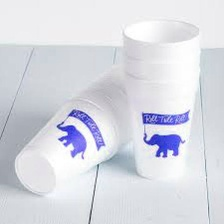paper_cup: (10, 59, 150, 199), (116, 14, 206, 186)
